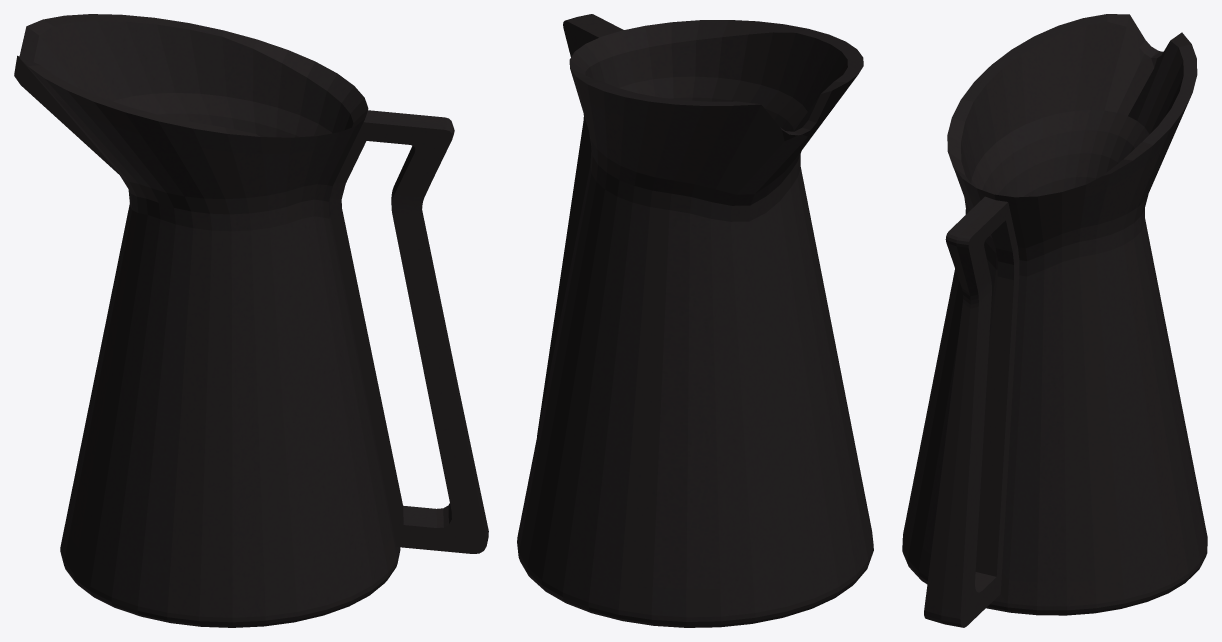
The model's file is KitchenWaterVase.001.fbx.
The picture shows the model from 3 angles, left to right: view 1: azimuth 30°, elevation 25°; view 2: azimuth 150°, elevation 25°; view 3: azimuth 270°, elevation 25°; orthographic projection. The views are drawn at different scales.
Parts seen in each view (by area): view 1: KitchenWaterVase.001_Baked; view 2: KitchenWaterVase.001_Baked; view 3: KitchenWaterVase.001_Baked.
Part boxes in pixels (box(x1,y1,x2,y2)): KitchenWaterVase.001_Baked: box(14, 14, 488, 627); KitchenWaterVase.001_Baked: box(517, 14, 873, 627); KitchenWaterVase.001_Baked: box(902, 14, 1207, 627).
Bounding box in the file's own units: 19.63 × 25.68 × 15.29.
1 material, 1 textured.
